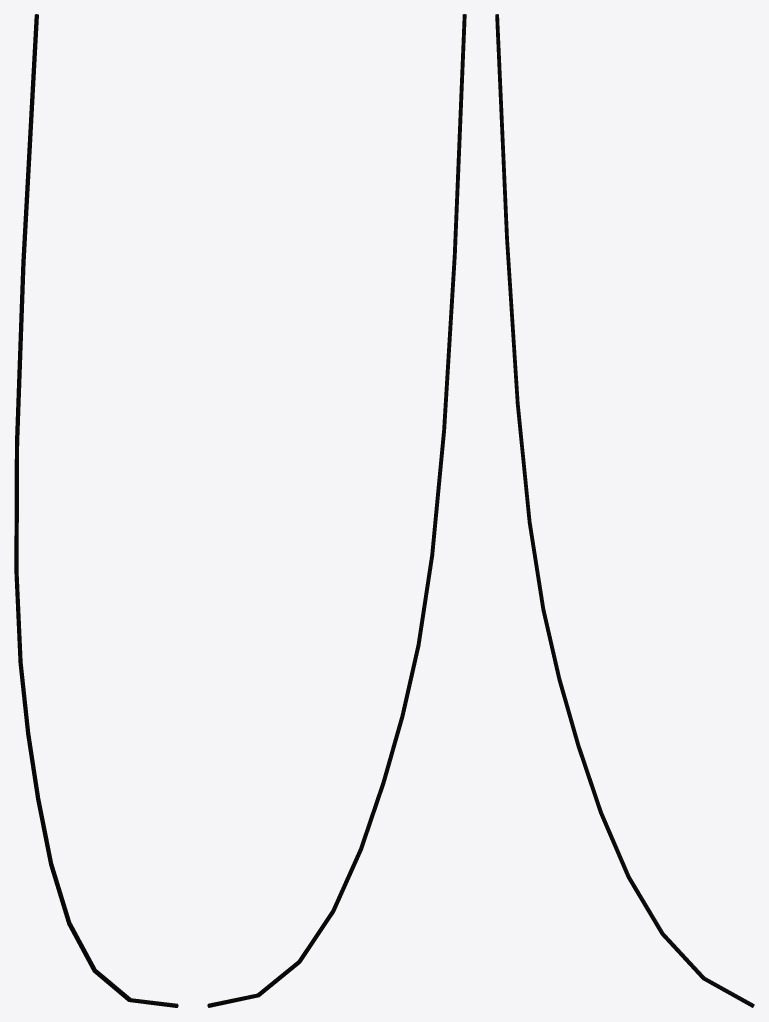
File: SM_Stage_Final_Wire_ceiling_07.fbx
The picture shows the model from 3 angles, left to right: view 1: azimuth 30°, elevation 25°; view 2: azimuth 150°, elevation 25°; view 3: azimuth 330°, elevation 25°; orthographic projection. The views are drawn at different scales.
Parts seen in each view (by area): view 1: SM_Stage_Final_Wire_ceiling_07; view 2: SM_Stage_Final_Wire_ceiling_07; view 3: SM_Stage_Final_Wire_ceiling_07.
Boxes of the visible parts, x1,y1,x2,y2 form: SM_Stage_Final_Wire_ceiling_07: (14,14,178,1007); SM_Stage_Final_Wire_ceiling_07: (207,14,466,1007); SM_Stage_Final_Wire_ceiling_07: (495,14,754,1007).
Size of the model in its own units: 64.16 by 312 by 37.95.
Materials: 1 (1 with a texture image).
